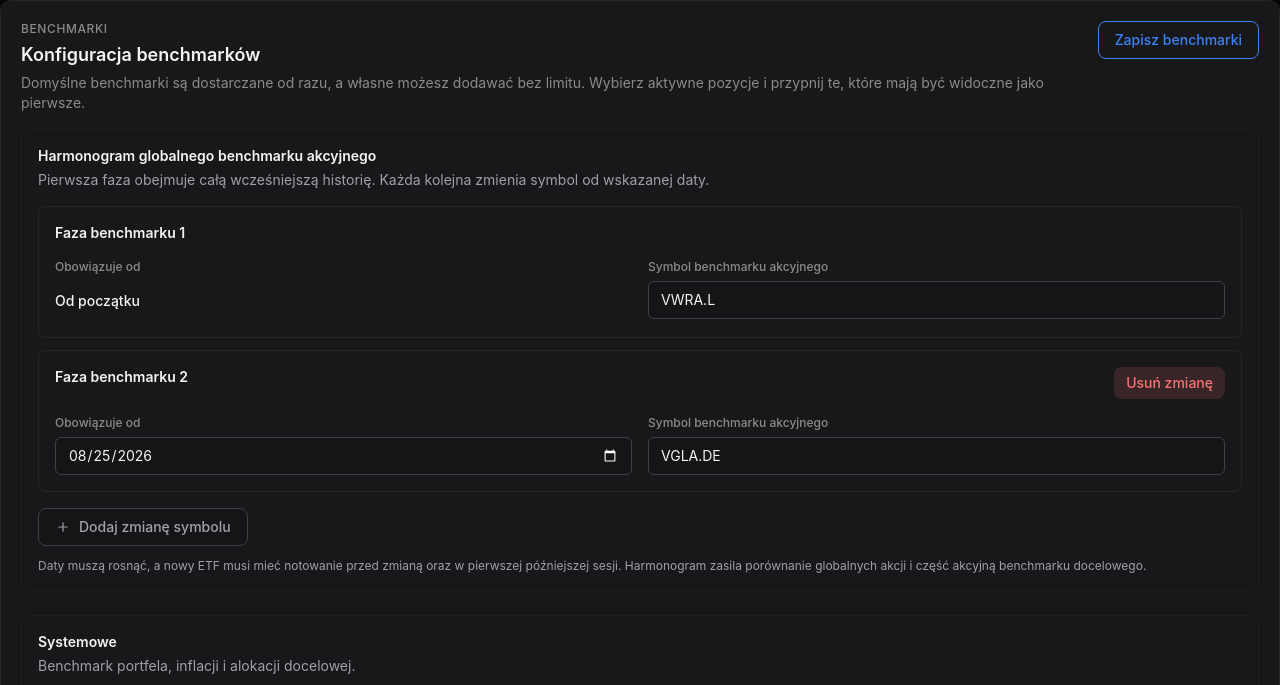
Scenario: PortfolioBenchmarkSettingsSection › rejects non-increasing dates and allows removing a dated phase
Expected: the text "Od początku" is shown, x1=55 y1=292 x2=140 y2=309
Click the button "Dodaj zmianę symbolu".
click(143, 527)  # box x1=38 y1=508 x2=248 y2=546
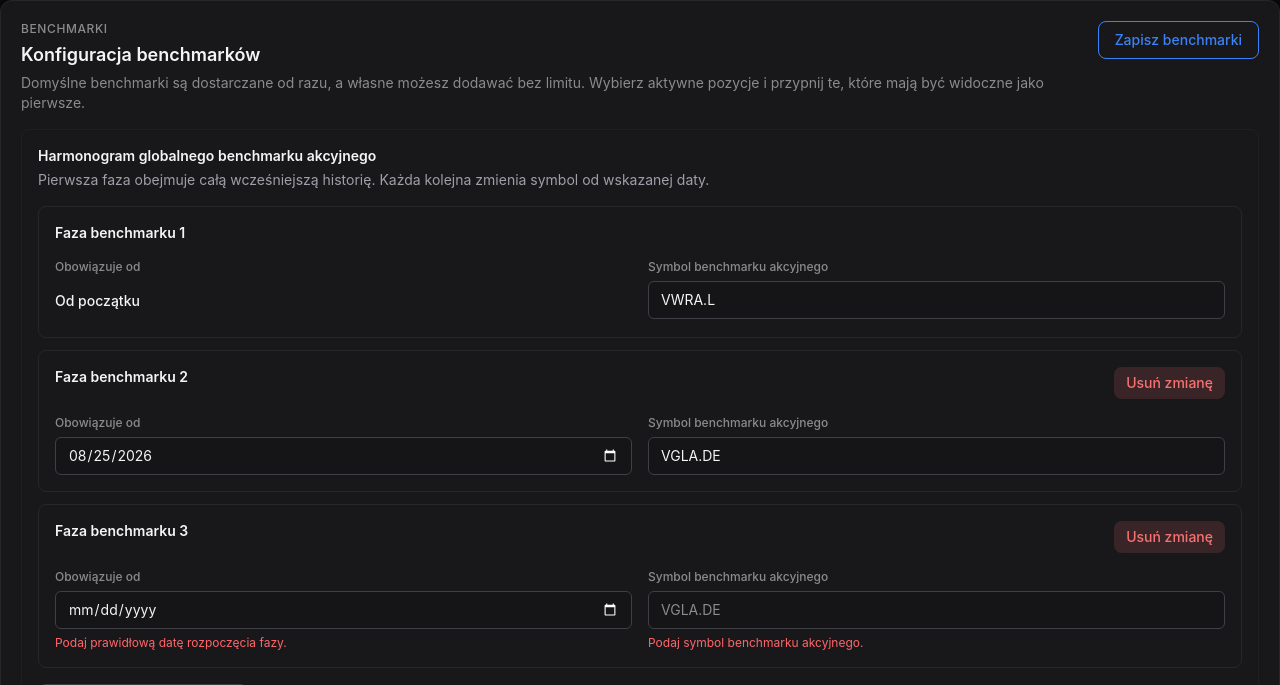
Now the number of date fields labelled "Obowiązuje od" is 2
Type "2026-08-25" into the date field labelled "Obowiązuje od Podaj prawidłową datę rozpoczęcia fazy.".
click(344, 610); type("2026-08-25")  # box x1=55 y1=591 x2=632 y2=629
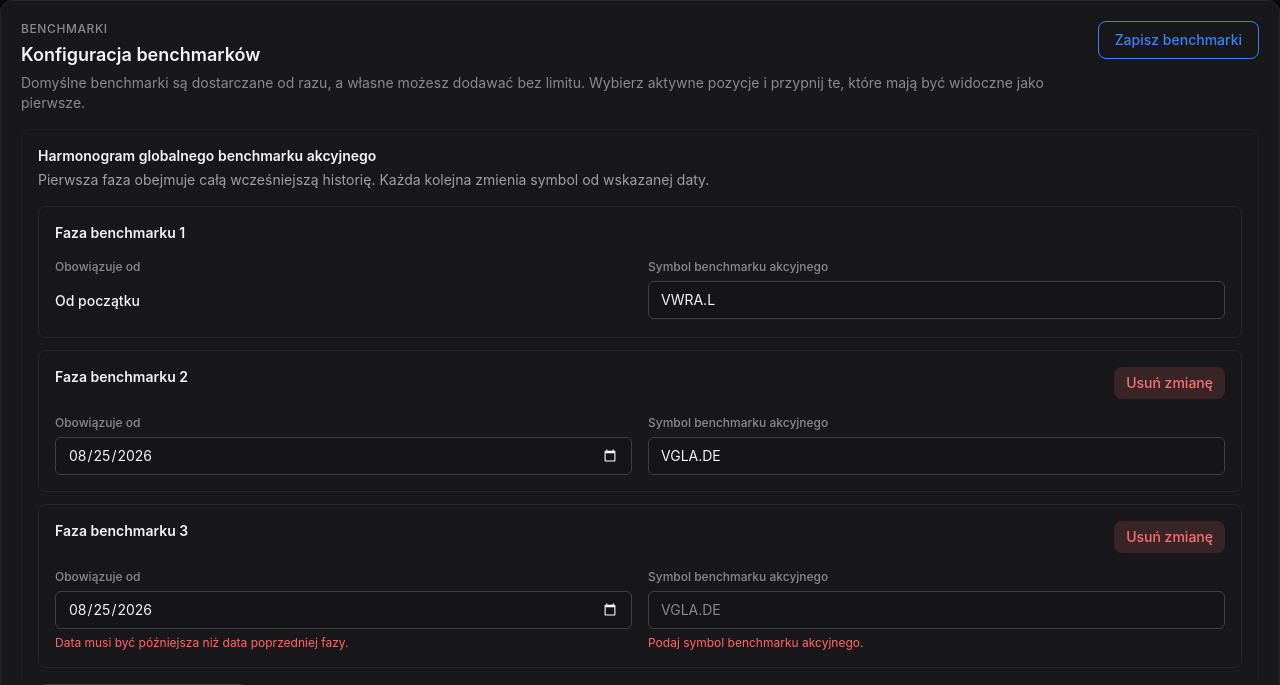
Type "NEXT.L" into the field labelled "Symbol benchmarku akcyjnego".
click(936, 610); type("NEXT.L")  # box x1=648 y1=591 x2=1225 y2=629
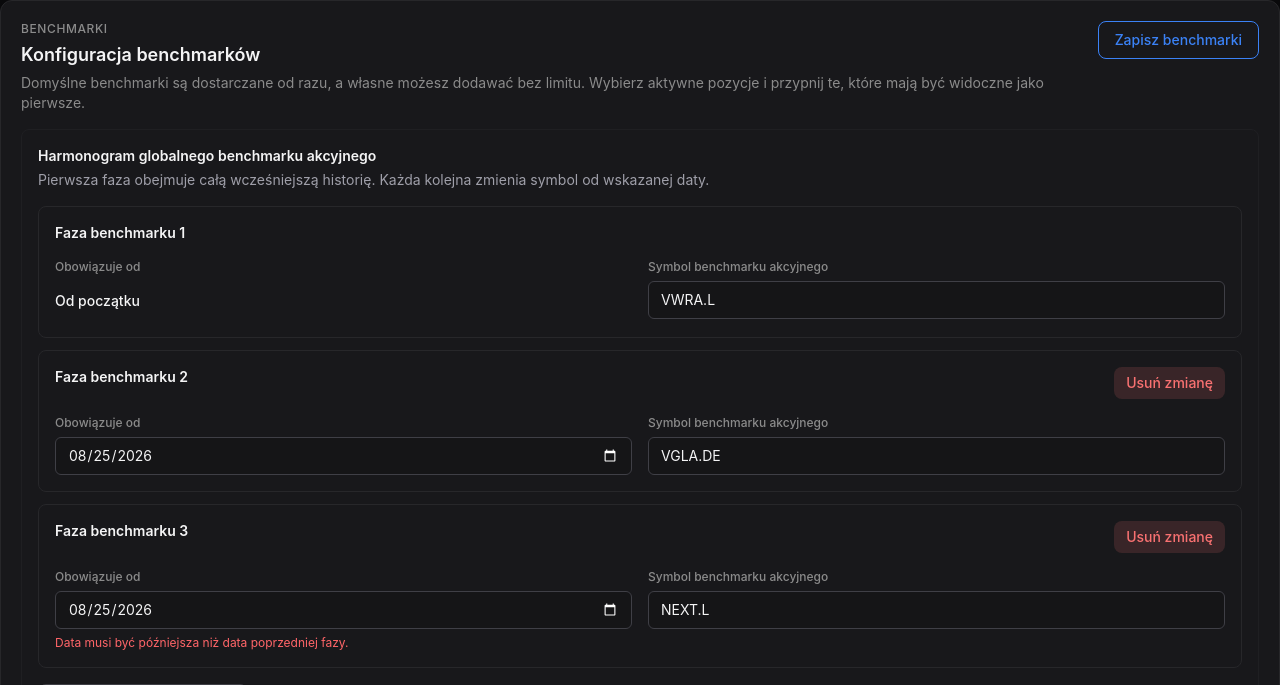
Now the text "Data musi być późniejsza niż data poprzedniej fazy." is shown, box x1=55 y1=635 x2=348 y2=650
Click the button "Zapisz benchmarki".
click(1178, 40)  # box x1=1098 y1=21 x2=1259 y2=59
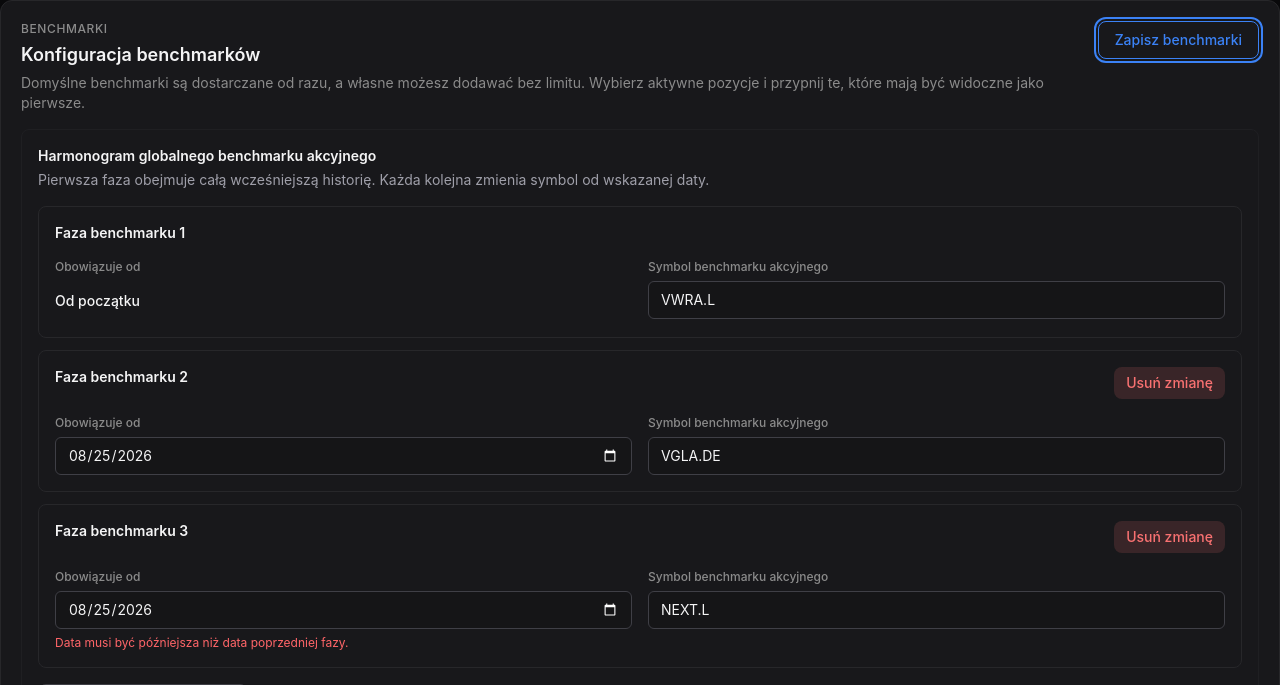
Click the 2nd button "Usuń zmianę".
click(1170, 537)  # box x1=1114 y1=521 x2=1225 y2=553
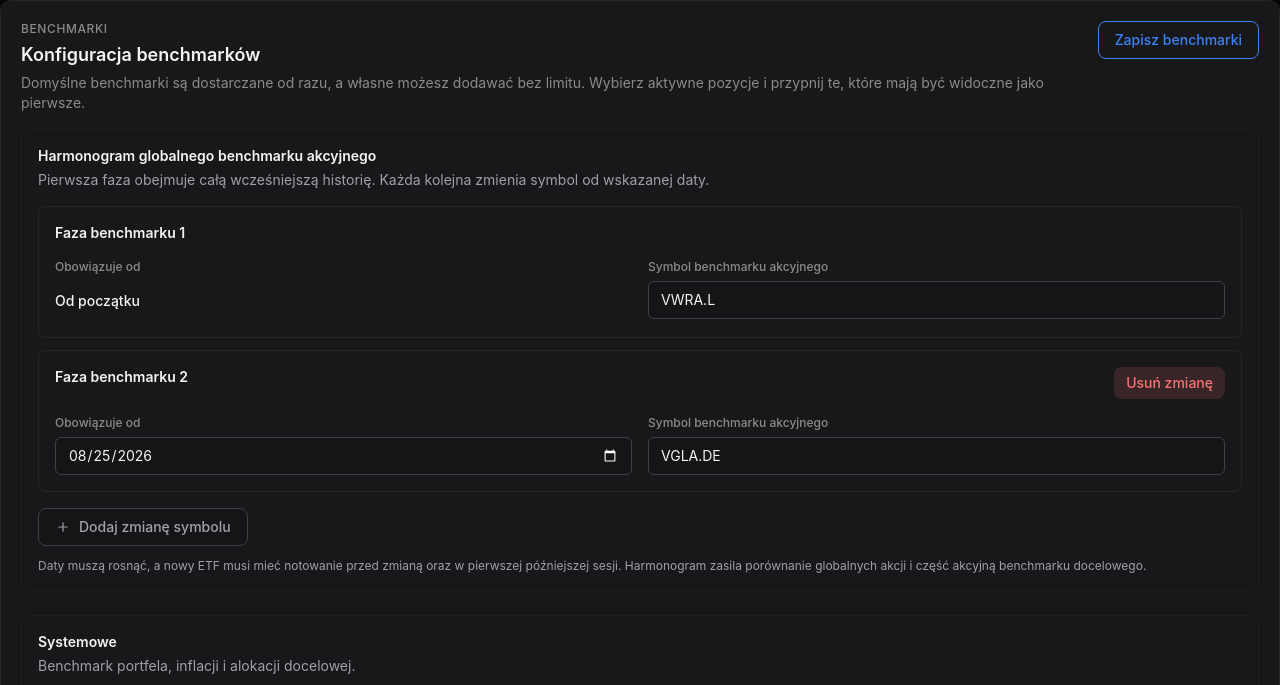
Expected: the number of buttons "Usuń zmianę" is 1, x1=1114 y1=367 x2=1225 y2=399
Now the number of fields labelled "Symbol benchmarku akcyjnego" is 2, box x1=648 y1=281 x2=1225 y2=319; x1=648 y1=437 x2=1225 y2=475
